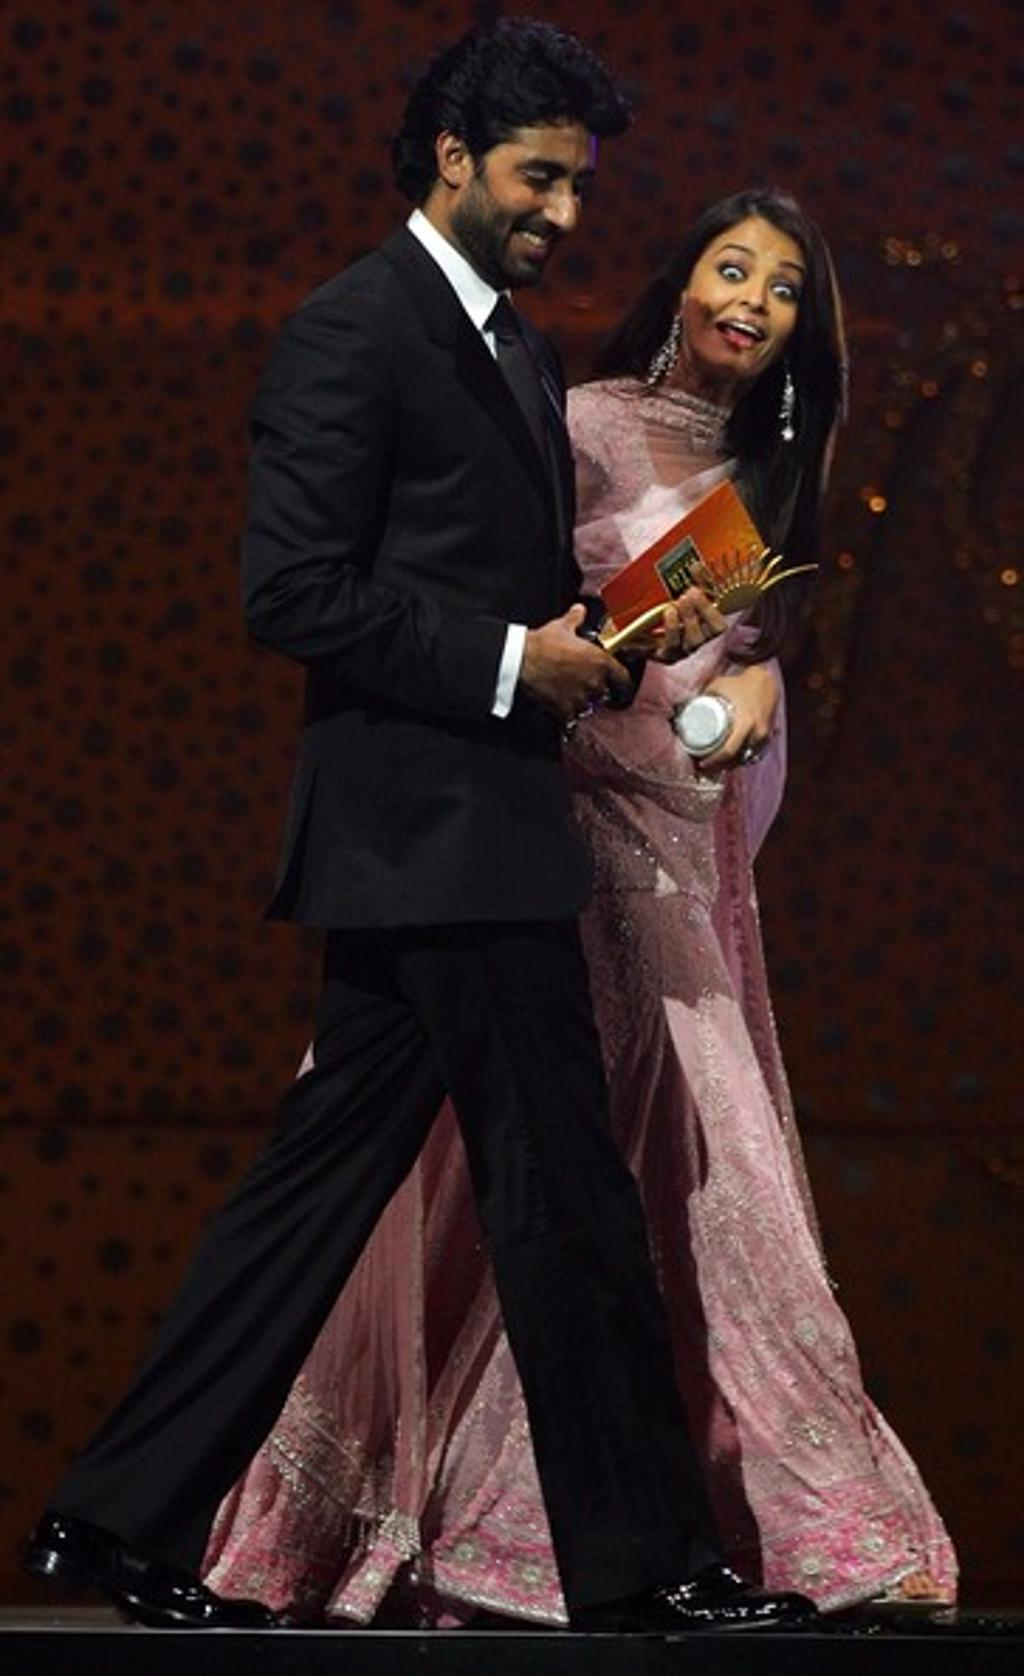face: (471, 69, 595, 278), (684, 213, 805, 373)
